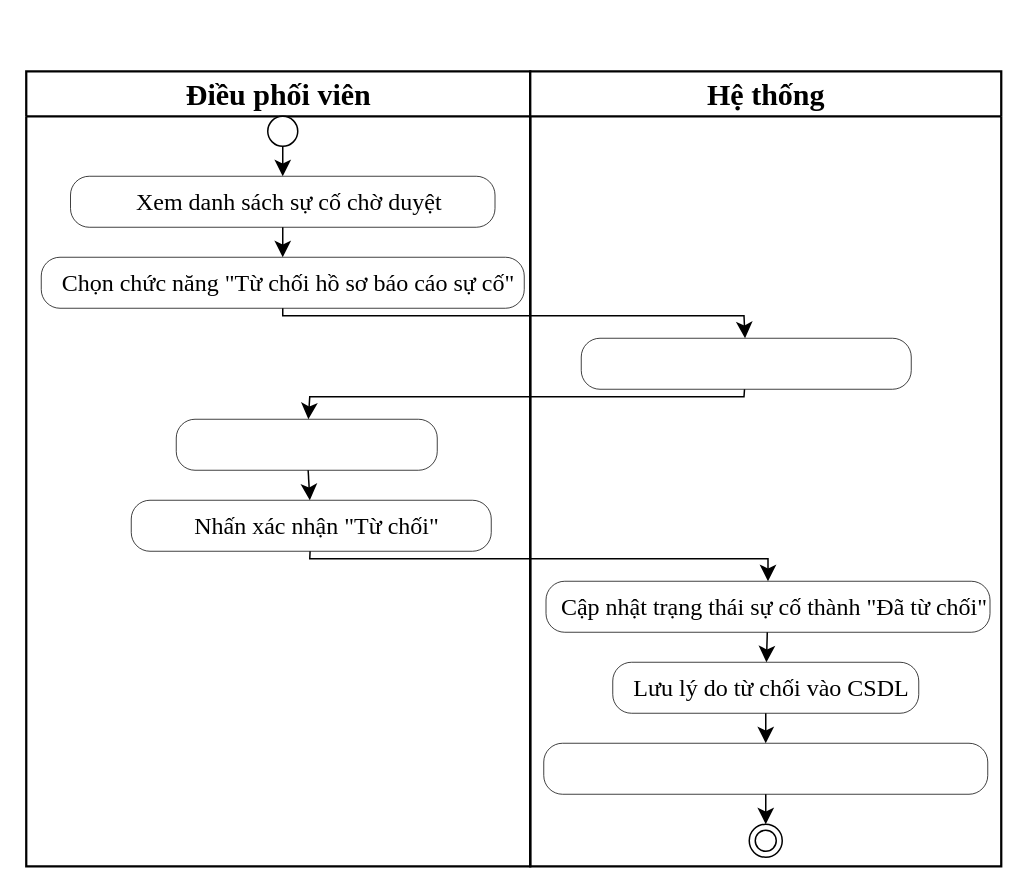
Image size: 1029x894. Some labels were removed from this diagram. The shapes that lost their labels are listed below. From the top down, each one's centre as x and y in pixels, then its label:
[745,363]: Yêu cầu nhập lý do từ chối
[306,444]: Nhập lý do từ chối
[765,768]: Hiển thị thông báo "Từ chối thành công"
